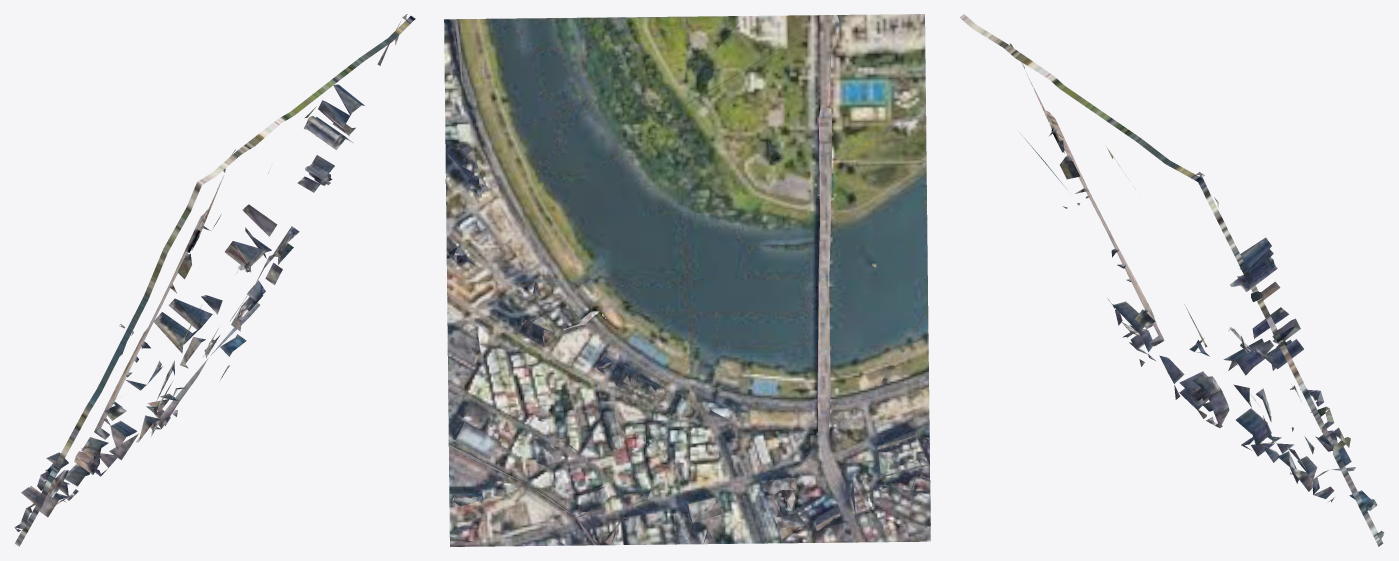
The picture shows the model from 3 angles, left to right: view 1: azimuth 30°, elevation 25°; view 2: azimuth 150°, elevation 25°; view 3: azimuth 270°, elevation 25°; orthographic projection. The views are drawn at different scales.
Bounding box in the file's own units: 1223 × 1114 × 1033.
Materials: 1 (1 with a texture image).
